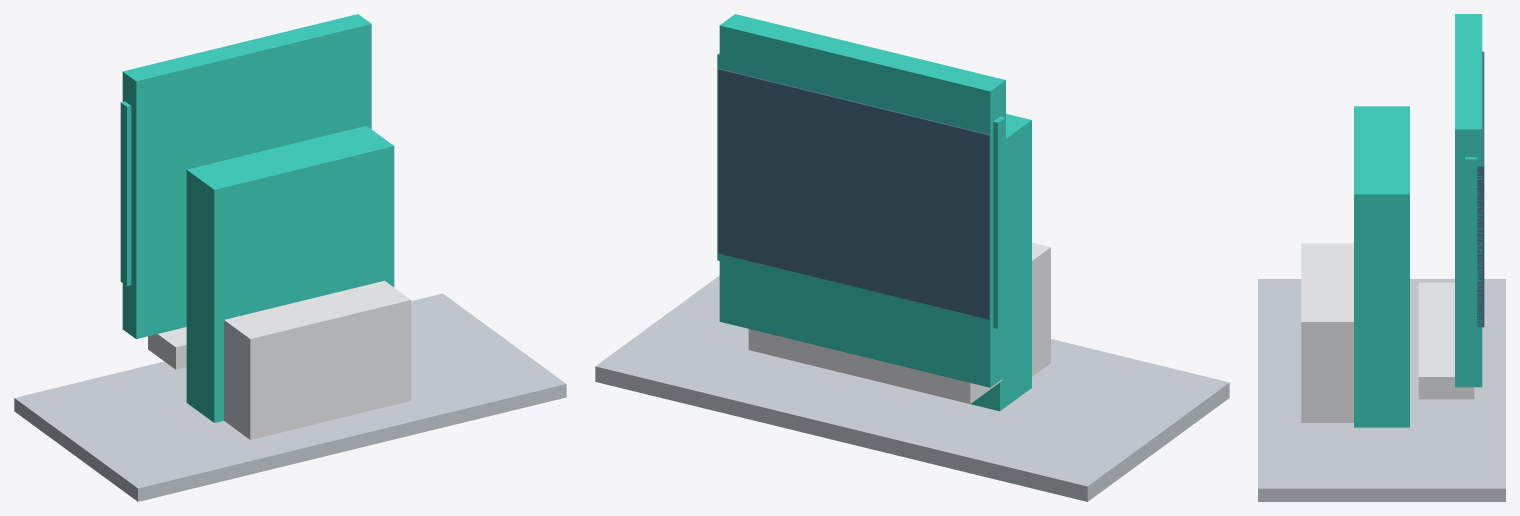
The picture shows the model from 3 angles, left to right: view 1: azimuth 30°, elevation 25°; view 2: azimuth 150°, elevation 25°; view 3: azimuth 270°, elevation 25°; orthographic projection. The views are drawn at different scales.
Visible parts, largest first — view 1: Exhibition Booth Concept; view 2: Exhibition Booth Concept; view 3: Exhibition Booth Concept.
Boxes of the visible parts, x1,y1,x2,y2 form: Exhibition Booth Concept: (14,14,566,501); Exhibition Booth Concept: (595,14,1229,501); Exhibition Booth Concept: (1258,14,1505,501).
Bounding box in the file's own units: 4 × 2.9 × 2.
